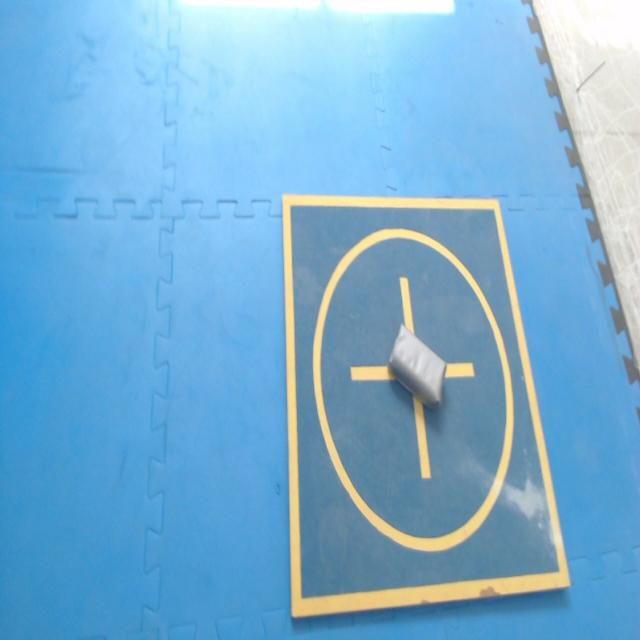esquerda: (389, 324, 446, 407)
